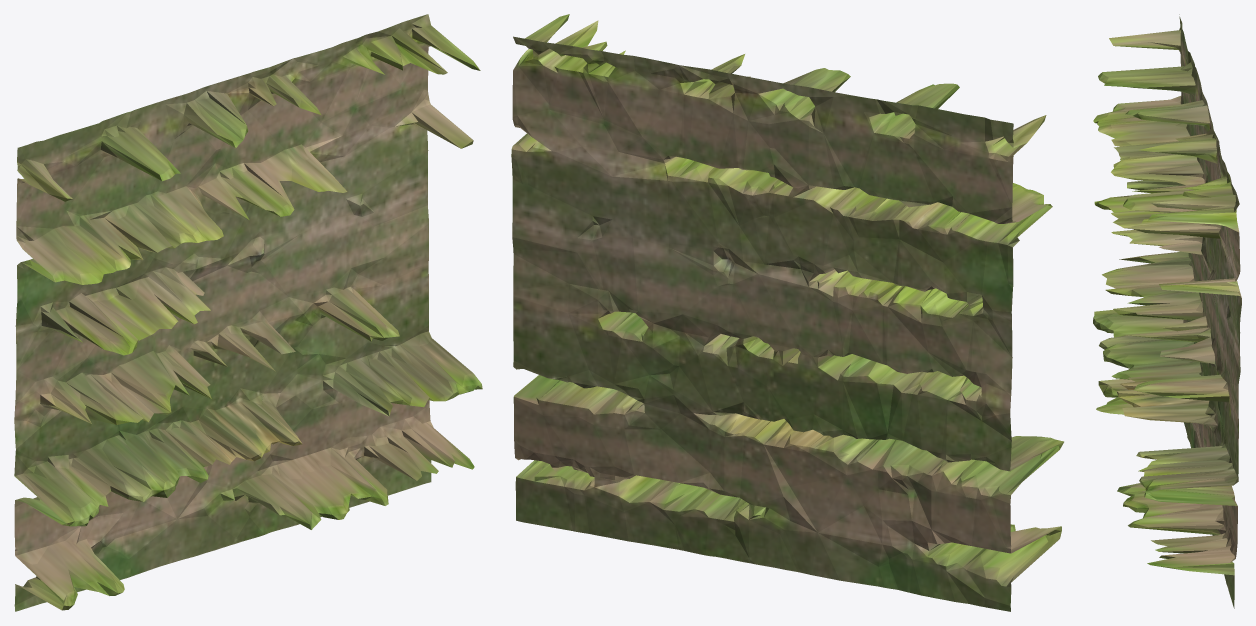
Rendered from map_130_40.obj.
3 renders of one model, left to right at view 1: azimuth 30°, elevation 25°; view 2: azimuth 150°, elevation 25°; view 3: azimuth 270°, elevation 25°, orthographic. The views are drawn at different scales.
Visible parts, largest first — view 1: grp1; view 2: grp1; view 3: grp1.
Boxes of the visible parts, x1=… form: grp1: x1=14, y1=14, x2=482, y2=611; grp1: x1=511, y1=14, x2=1063, y2=611; grp1: x1=1093, y1=14, x2=1241, y2=608.
Size of the model in its own units: 10 by 10 by 3.31.
Materials: 1 (1 with a texture image).
